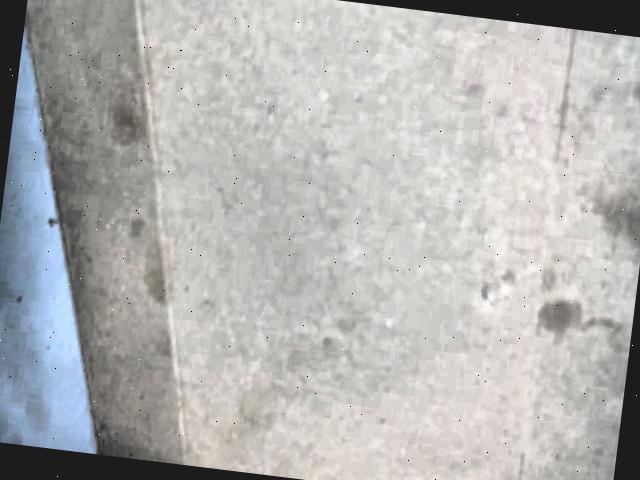Paper: (23, 0, 640, 480)
